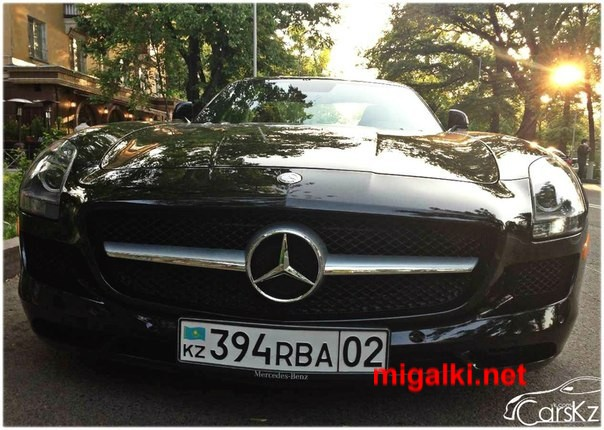license_plate: (177, 319, 387, 373)
